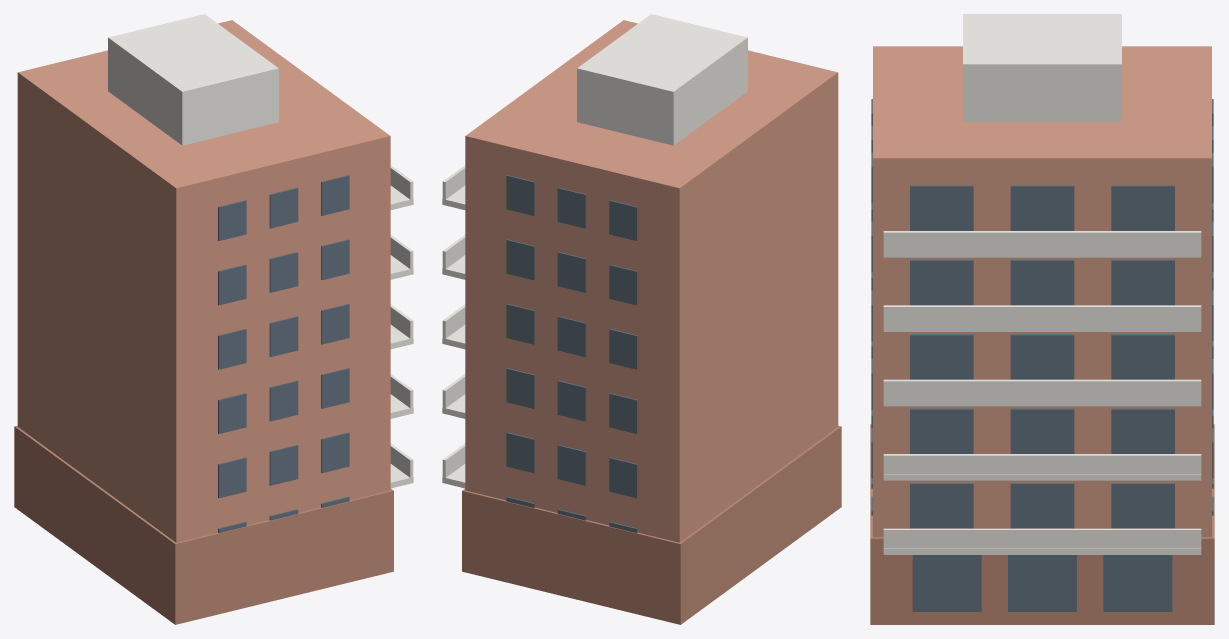
Rendered from rambla_building_7.glb.
3 renders of one model, left to right at view 1: azimuth 30°, elevation 25°; view 2: azimuth 150°, elevation 25°; view 3: azimuth 270°, elevation 25°, orthographic. The views are drawn at different scales.
Visible parts, largest first — view 1: RamblaBuilding_7; view 2: RamblaBuilding_7; view 3: RamblaBuilding_7.
Boxes of the visible parts, x1,y1,x2,y2 form: RamblaBuilding_7: (14,14,413,624); RamblaBuilding_7: (442,14,841,624); RamblaBuilding_7: (870,14,1214,624).
Bounding box in the file's own units: 11.4 × 21.8 × 13.
